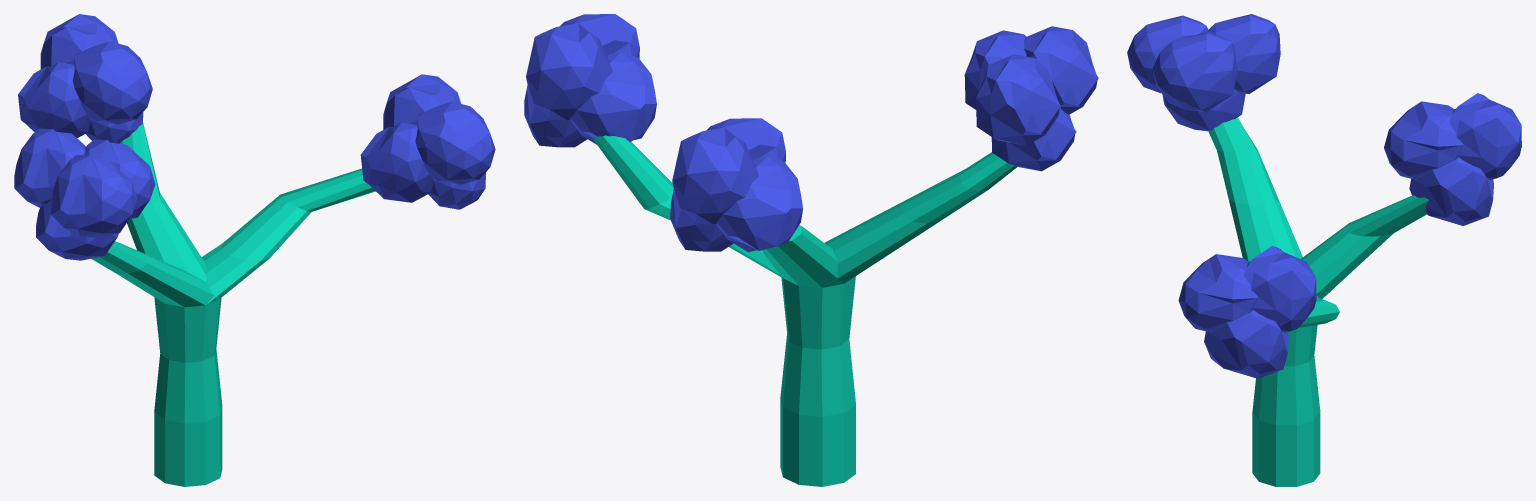
File: Tree.fbx
3 renders of one model, left to right at view 1: azimuth 30°, elevation 25°; view 2: azimuth 150°, elevation 25°; view 3: azimuth 270°, elevation 25°, orthographic. The views are drawn at different scales.
Parts seen in each view (by area): view 1: Cylinder, Icosphere.003, Icosphere.007, Icosphere.011, Icosphere.009, Icosphere.005, Icosphere.002, Icosphere.006, Icosphere.010, Icosphere.001, Icosphere.004, Icosphere.012 (+1 smaller); view 2: Cylinder, Icosphere.010, Icosphere.006, Icosphere.002, Icosphere.005, Icosphere.009, Icosphere.003, Icosphere.001, Icosphere.004, Icosphere.007, Icosphere.011, Icosphere.012 (+1 smaller); view 3: Cylinder, Icosphere.004, Icosphere.010, Icosphere.006, Icosphere.007, Icosphere.011, Icosphere.012, Icosphere.008, Icosphere.002, Icosphere.003, Icosphere.001.
Boxes of the visible parts, x1,y1,x2,y2 form: Cylinder: (91, 123, 375, 486); Icosphere.003: (51, 155, 137, 237); Icosphere.007: (72, 41, 152, 124); Icosphere.011: (415, 101, 495, 184); Icosphere.009: (360, 122, 433, 202); Icosphere.005: (18, 62, 90, 138); Icosphere.002: (14, 128, 85, 207); Icosphere.006: (40, 14, 118, 69); Icosphere.010: (383, 74, 461, 129); Icosphere.001: (36, 201, 118, 260); Icosphere.004: (84, 139, 155, 219); Icosphere.012: (428, 172, 485, 209); Cylinder: (591, 135, 1017, 486); Icosphere.010: (526, 23, 612, 120); Icosphere.006: (672, 127, 758, 224); Icosphere.002: (976, 54, 1060, 145); Icosphere.005: (716, 157, 802, 252); Icosphere.009: (570, 52, 656, 144); Icosphere.003: (1024, 26, 1098, 114); Icosphere.001: (991, 108, 1076, 171); Icosphere.004: (964, 30, 1026, 109); Icosphere.007: (706, 118, 785, 162); Icosphere.011: (560, 14, 639, 58); Icosphere.012: (524, 85, 587, 147); Cylinder: (1208, 117, 1428, 486); Icosphere.004: (1152, 32, 1237, 111); Icosphere.010: (1244, 245, 1316, 332); Icosphere.006: (1449, 93, 1521, 179); Icosphere.007: (1384, 101, 1463, 178); Icosphere.011: (1178, 254, 1258, 331); Icosphere.012: (1204, 310, 1288, 378); Icosphere.008: (1409, 157, 1493, 225); Icosphere.002: (1207, 14, 1280, 93); Icosphere.003: (1127, 15, 1207, 93); Icosphere.001: (1162, 90, 1245, 131).
Bounding box in the file's own units: 1559 × 1248 × 1162.
